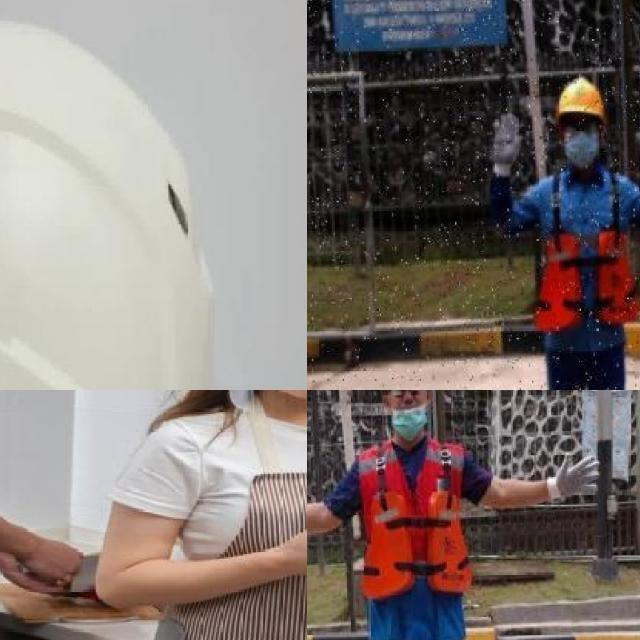apron: (546, 448, 603, 505), (488, 112, 525, 183)
